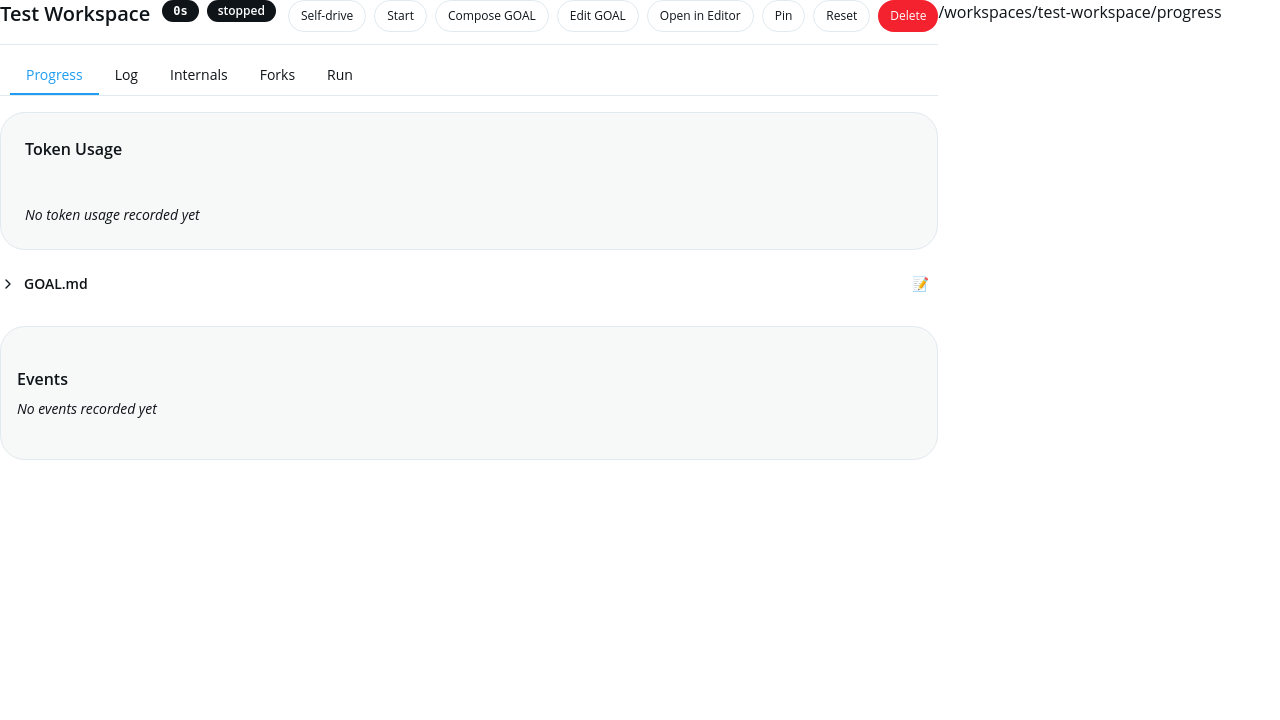
Test case: WorkspaceDetail › reset functionality › shows reset errors in the action error area
The width and height of the screenshot is (1280, 720).
Click the button "Reset" at {"x": 842, "y": 16}, box [813,0,870,32]
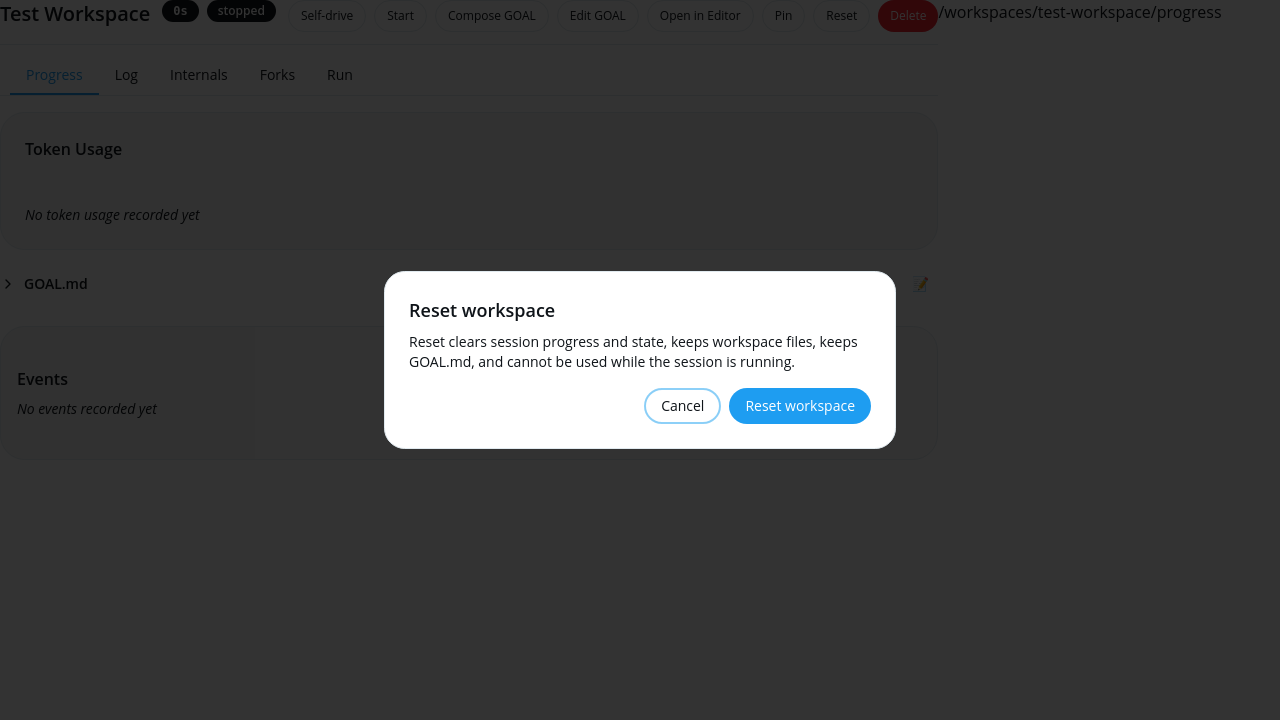
Click the button "Reset workspace" at {"x": 800, "y": 406}, box [729,388,871,424]
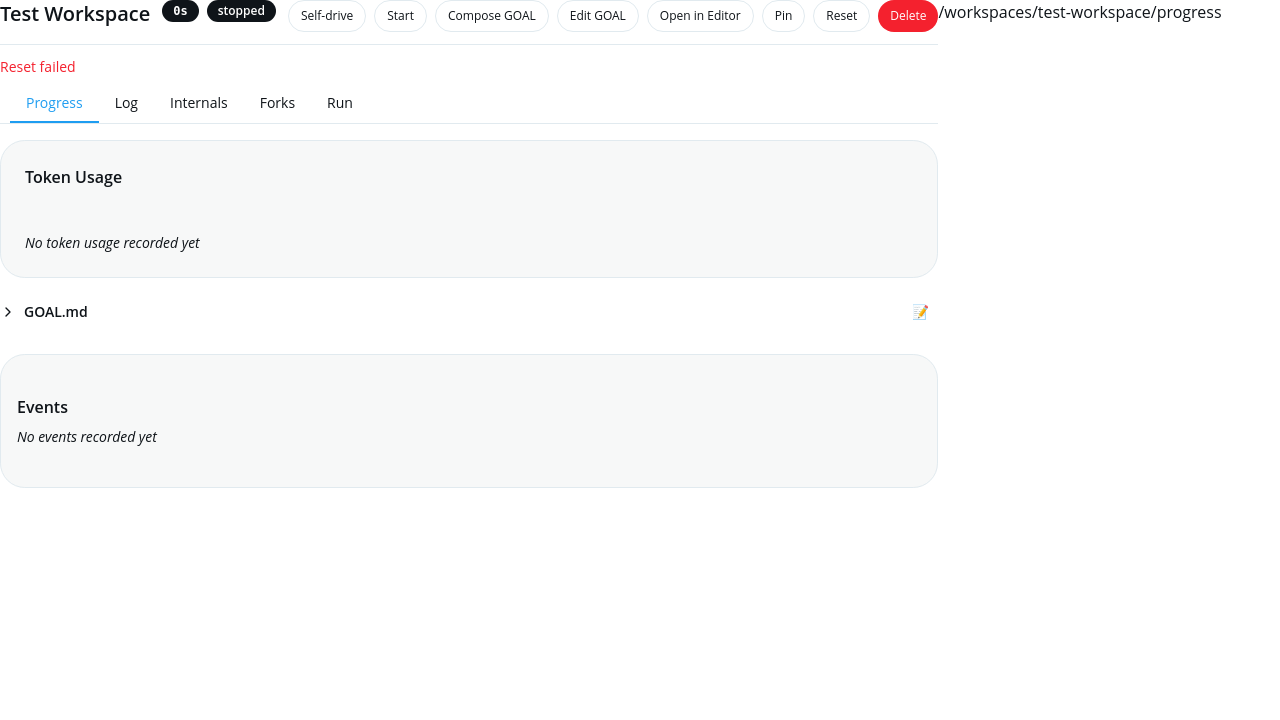
Expected: the message reads "Reset failed", [0,57,76,76]
